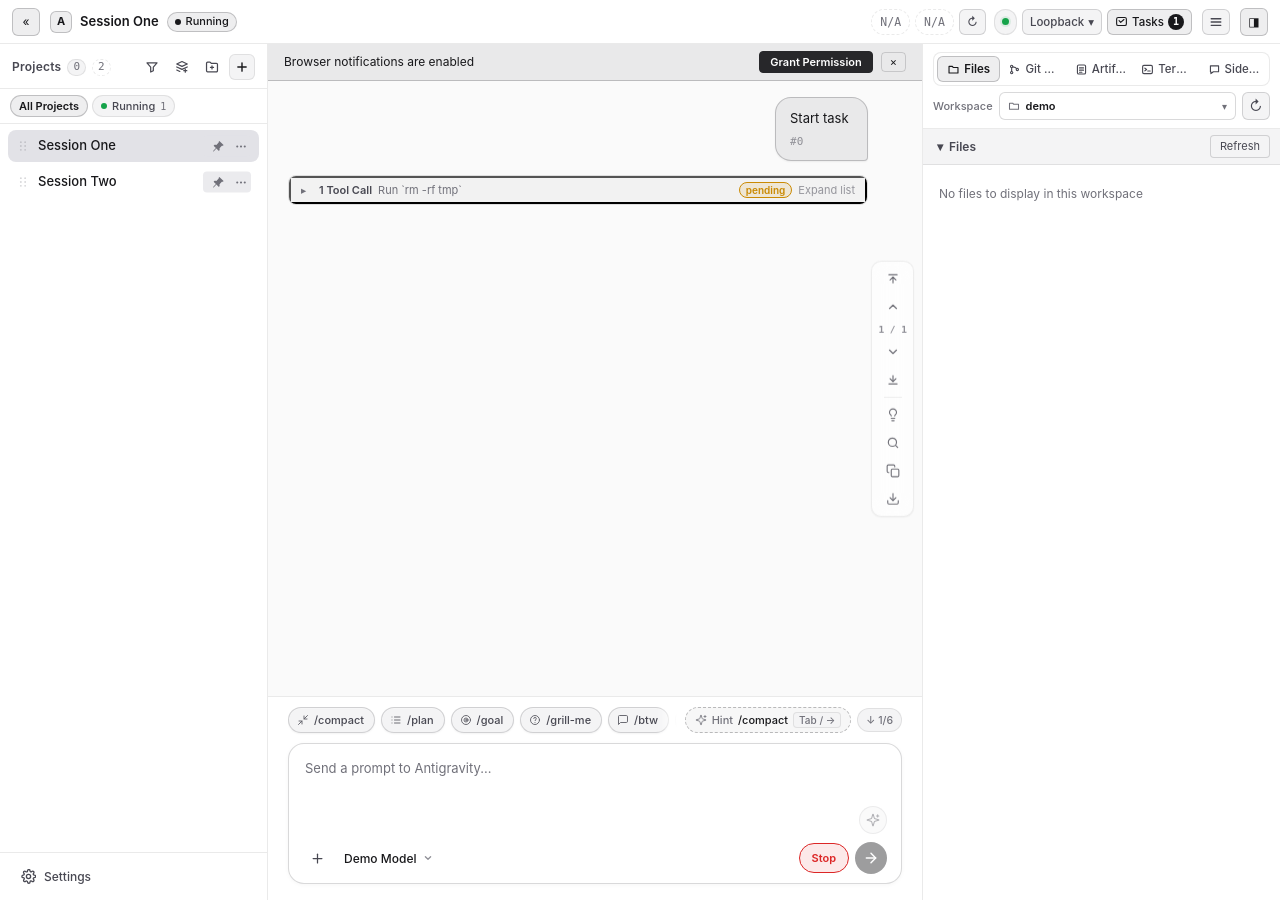
it: App optimistic send flow › HUB-332: sends browser notifications only when enabled, granted, and page inactive, and handles click focus
Expected: the text with test id "topbar-session-title" reads "Session One", [80,13,159,29]
// Clicking explicit grant button requests permission
Click the button with test id "notification-grant-btn" at (816, 62), box [759,51,873,73]
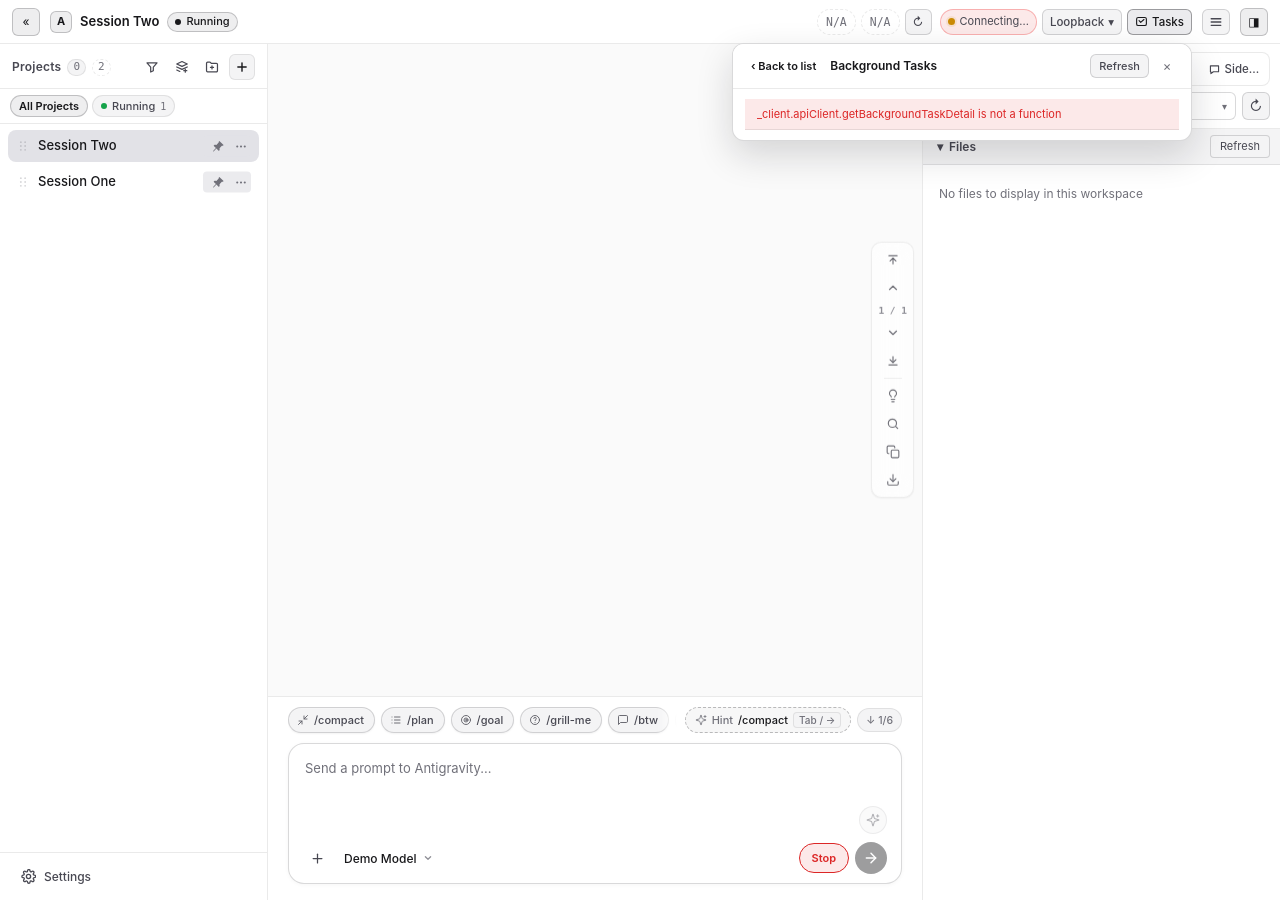
Result: the message with test id "notification-permission-banner" is gone
Result: the text with test id "topbar-session-title" reads "Session Two" at [80,13,159,29]
